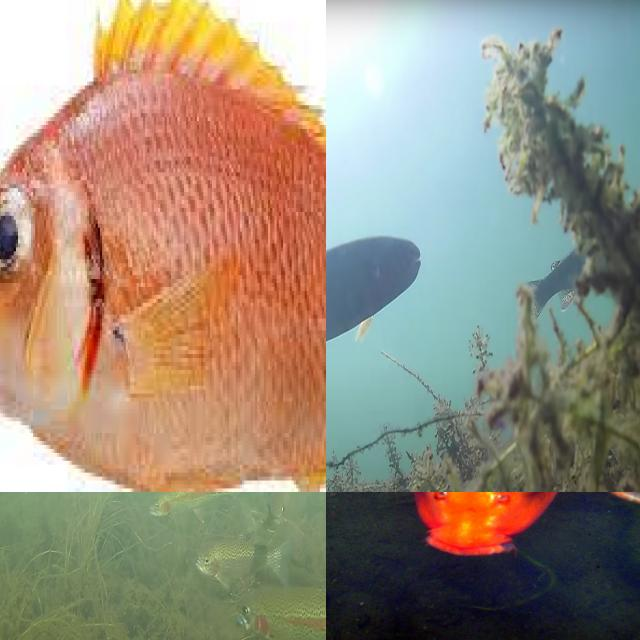fish: (0, 0, 326, 492), (70, 492, 326, 554), (358, 492, 640, 545), (350, 320, 449, 384)
